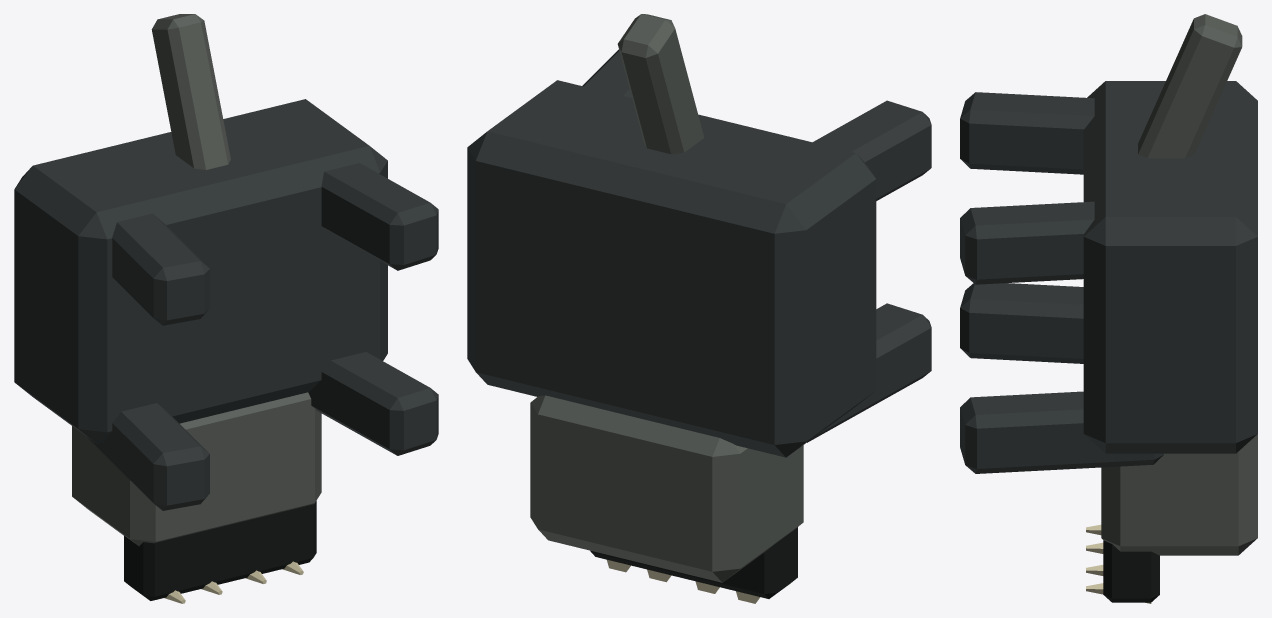
Rendered from GearjawHound.glb.
The picture shows the model from 3 angles, left to right: view 1: azimuth 30°, elevation 25°; view 2: azimuth 150°, elevation 25°; view 3: azimuth 270°, elevation 25°; orthographic projection. The views are drawn at different scales.
Parts seen in each view (by area): view 1: Body, Head, Jaw, FrontRightLeg, BackRightLeg, Tail, FrontLeftLeg, BackLeftLeg; view 2: Body, Head, Tail, BackLeftLeg, FrontLeftLeg, Jaw, BackRightLeg; view 3: Body, Head, FrontRightLeg, BackRightLeg, BackLeftLeg, FrontLeftLeg, Tail, Jaw.
Boxes of the visible parts, x1,y1,x2,y2 form: Body: (14,99,387,443); Head: (72,392,321,546); Jaw: (124,501,316,600); FrontRightLeg: (308,352,438,455); BackRightLeg: (321,163,438,270); Tail: (151,14,230,169); FrontLeftLeg: (86,403,209,510); BackLeftLeg: (112,213,209,325); Body: (467,80,876,457); Head: (530,395,803,582); Tail: (617,14,704,154); BackLeftLeg: (813,100,931,200); FrontLeftLeg: (807,303,931,442); Jaw: (590,527,797,598); BackRightLeg: (582,49,631,98); Body: (1083,81,1257,453); Head: (1101,434,1257,555); FrontRightLeg: (960,391,1163,473); BackRightLeg: (960,201,1094,284); BackLeftLeg: (960,92,1094,174); FrontLeftLeg: (960,283,1083,363); Tail: (1138,14,1242,158); Jaw: (1103,540,1159,602).
Size of the model in its own units: 4.2 by 6.99 by 3.42.
1 material, 1 textured.
